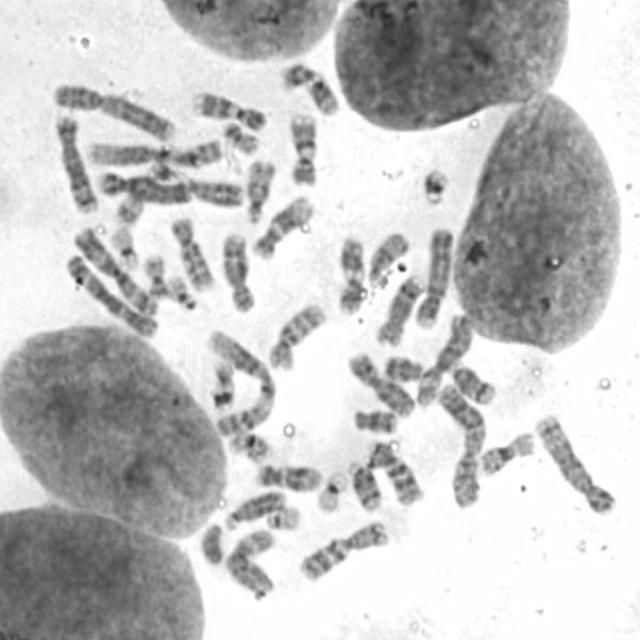A1: (203, 323, 279, 439), (81, 133, 226, 170)
A2: (48, 77, 178, 142), (433, 378, 487, 510)
A3: (59, 248, 160, 340), (67, 222, 159, 317)
B4: (410, 221, 456, 329), (92, 166, 194, 207)
B5: (530, 407, 618, 517), (50, 108, 102, 215)
C10: (262, 296, 328, 372), (165, 210, 218, 292)
C11: (274, 56, 342, 118), (332, 232, 366, 316)
C12: (249, 190, 316, 260), (250, 457, 324, 494)
C6: (412, 308, 477, 410), (219, 522, 279, 600)
C7: (295, 514, 391, 584), (362, 435, 427, 507)
C8: (371, 266, 427, 347), (217, 226, 258, 314)
C9: (188, 84, 269, 133), (284, 106, 321, 188)
D13: (219, 484, 287, 531), (174, 177, 244, 213)
D14: (442, 355, 499, 406), (343, 455, 384, 512)
D15: (363, 226, 412, 288), (242, 154, 278, 225)
E16: (474, 425, 537, 478), (223, 424, 272, 464)
E17: (111, 173, 156, 226), (206, 353, 237, 412)
E18: (348, 402, 400, 434), (380, 349, 425, 383)
F19: (311, 466, 350, 513), (106, 220, 142, 270)
F20: (218, 116, 261, 156), (138, 248, 170, 300)
G21: (417, 161, 452, 207), (144, 156, 186, 183)
G22: (163, 268, 200, 312), (260, 499, 303, 531)
X: (342, 346, 418, 419)
Y: (195, 516, 228, 567)
